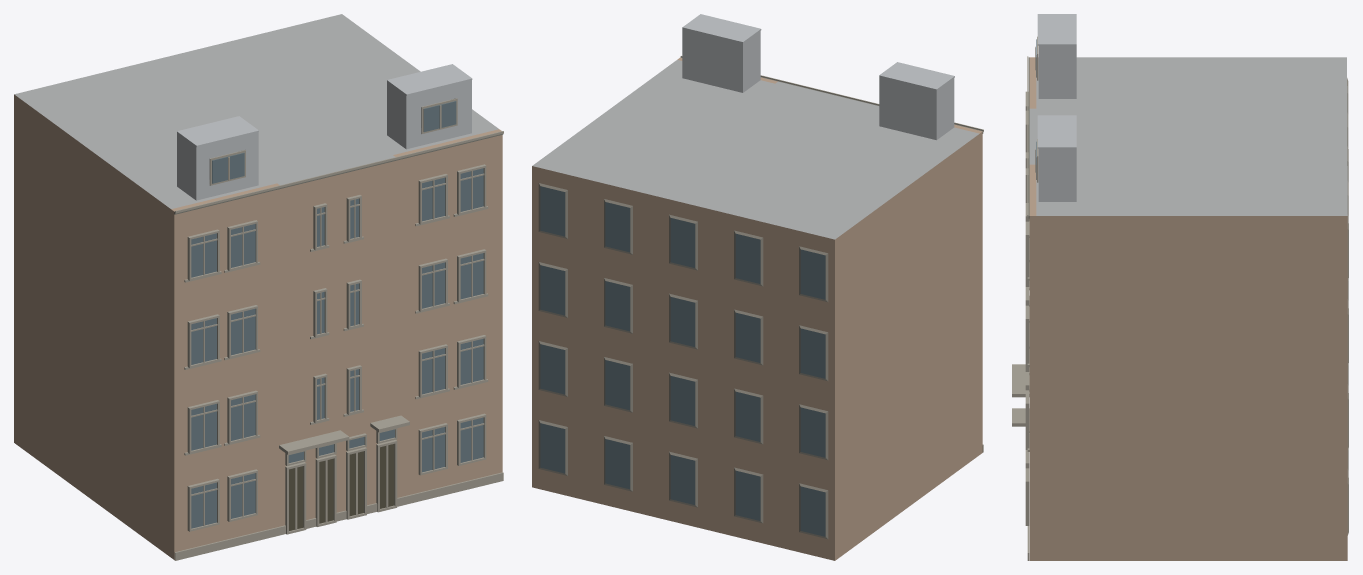
The model's file is chunk-face-haen-6-62-r3.glb.
3 renders of one model, left to right at view 1: azimuth 30°, elevation 25°; view 2: azimuth 150°, elevation 25°; view 3: azimuth 270°, elevation 25°, orthographic. The views are drawn at different scales.
Parts seen in each view (by area): view 1: face-haen-6-62-r3; view 2: face-haen-6-62-r3; view 3: face-haen-6-62-r3.
Boxes of the visible parts, x1,y1,x2,y2 form: face-haen-6-62-r3: (14, 14, 503, 560); face-haen-6-62-r3: (532, 14, 983, 560); face-haen-6-62-r3: (1012, 14, 1348, 560).
Size of the model in its own units: 12.8 by 15.1 by 11.49.
